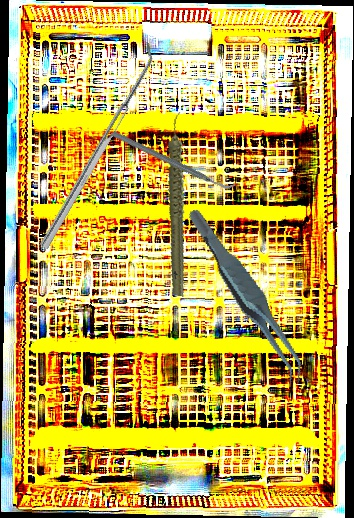Chopper: (109, 92, 237, 227)
Handpiece: (134, 110, 225, 298)
Spatula Surgical: (31, 41, 163, 250)
Tissue Forceps: (186, 193, 309, 400)
